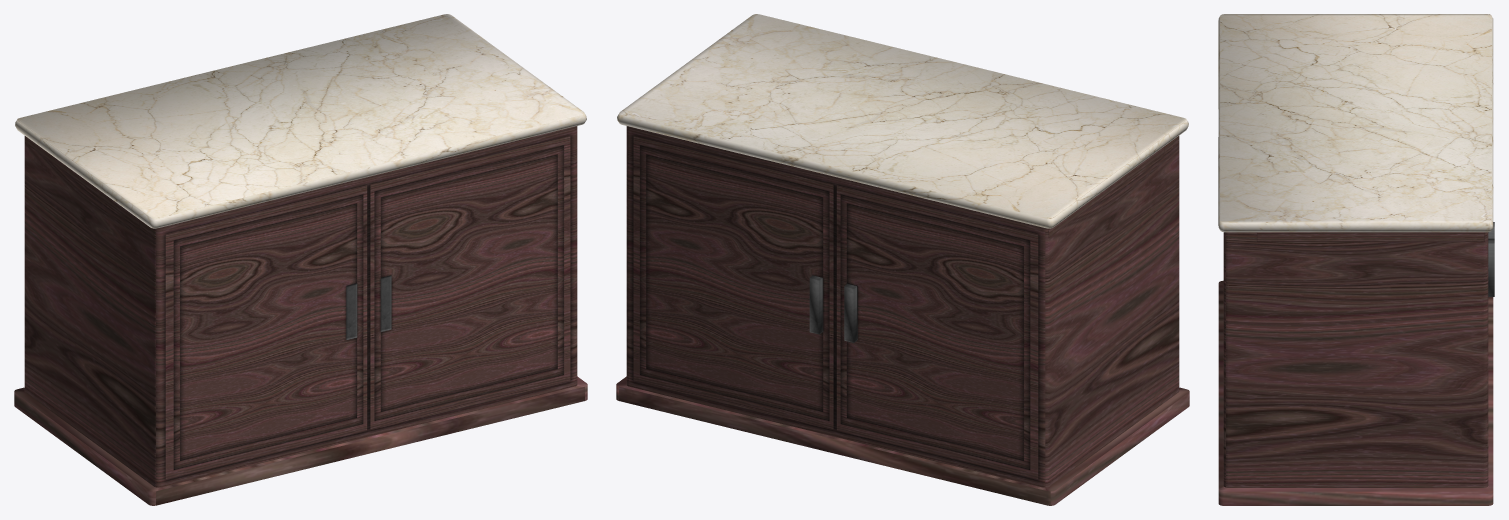
The model's file is Wide_cupboard.fbx.
3 renders of one model, left to right at view 1: azimuth 30°, elevation 25°; view 2: azimuth 150°, elevation 25°; view 3: azimuth 270°, elevation 25°, orthographic.
Visible parts, largest first — view 1: Wide_cupboard; view 2: Wide_cupboard; view 3: Wide_cupboard.
Boxes of the visible parts, box(x1,y1,x2,y2) form: Wide_cupboard: box(14, 14, 587, 505); Wide_cupboard: box(616, 14, 1189, 505); Wide_cupboard: box(1218, 14, 1494, 505).
Bounding box in the file's own units: 0.6449 × 0.4019 × 0.3566.
1 material, 1 textured.
